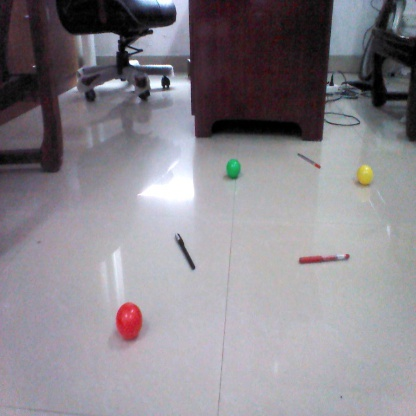ball: (113, 303, 148, 340), (355, 164, 375, 185), (224, 159, 244, 179)
pen: (174, 234, 197, 270), (300, 253, 352, 265), (292, 150, 323, 169)
